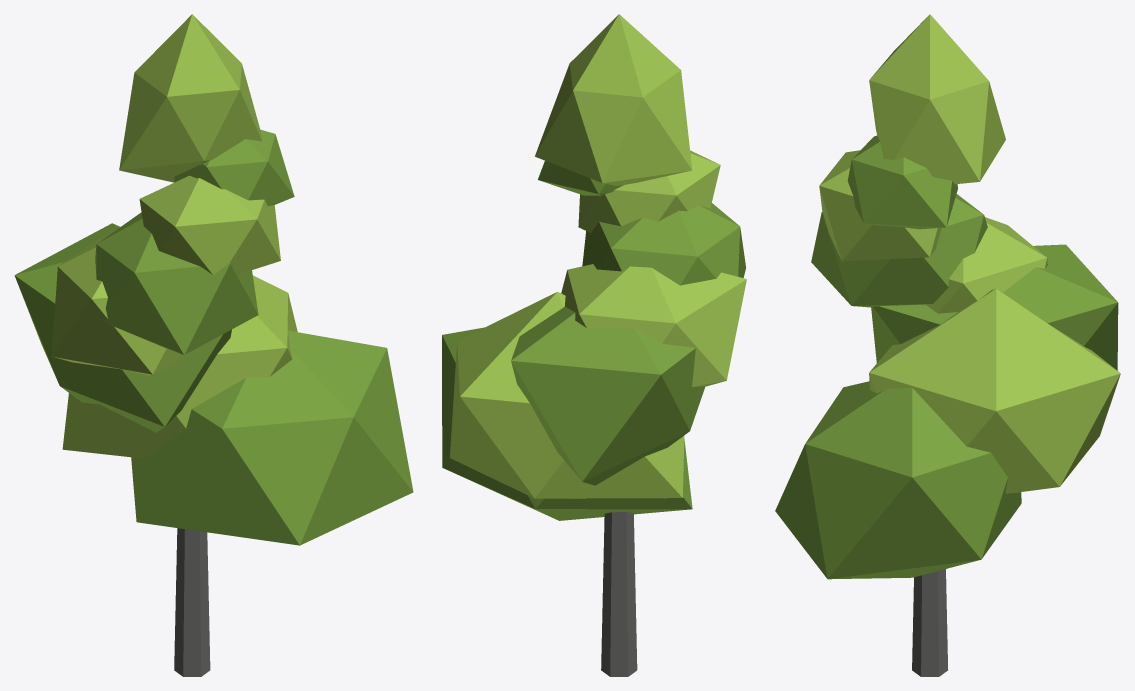
Rendered from ginkgo_1.glb.
The picture shows the model from 3 angles, left to right: view 1: azimuth 30°, elevation 25°; view 2: azimuth 150°, elevation 25°; view 3: azimuth 270°, elevation 25°; orthographic projection.
Parts seen in each view (by area): view 1: ginkgo_1; view 2: ginkgo_1; view 3: ginkgo_1.
Part boxes in pixels (x1,y1,x2,y2): ginkgo_1: [14, 14, 413, 676]; ginkgo_1: [442, 14, 746, 676]; ginkgo_1: [775, 14, 1120, 676].
Bounding box in the file's own units: 6.34 × 12.81 × 6.12.
